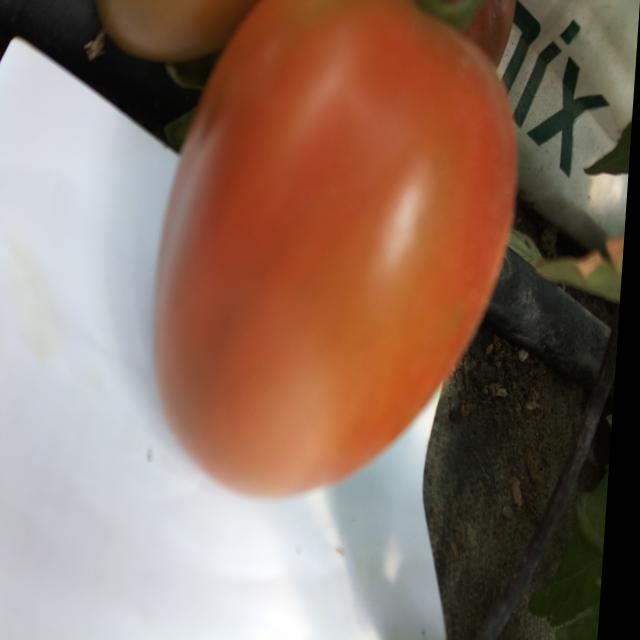kirmizi: (150, 4, 507, 488)
